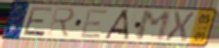A: (102, 9, 131, 42)
E: (21, 6, 55, 38), (78, 8, 110, 40)
M: (135, 10, 173, 42)
R: (46, 6, 77, 39)
X: (163, 10, 197, 43)
